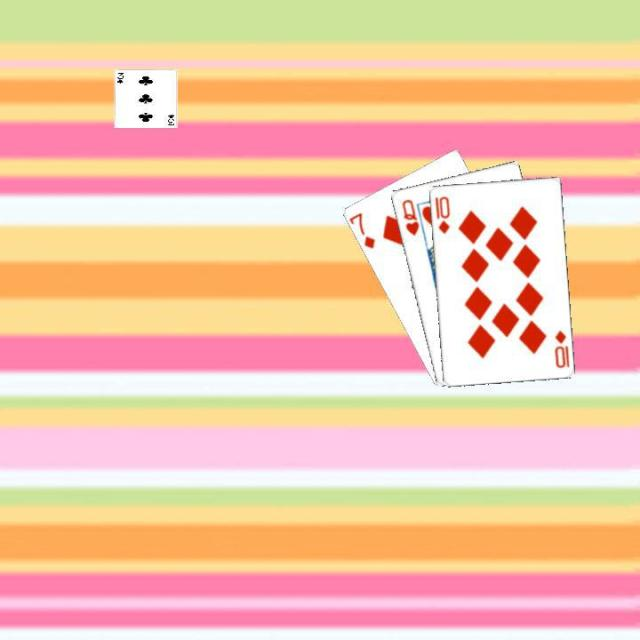10D: (550, 326, 571, 370), (430, 192, 451, 235)
7D: (346, 208, 377, 251)
QH: (398, 195, 420, 237)
